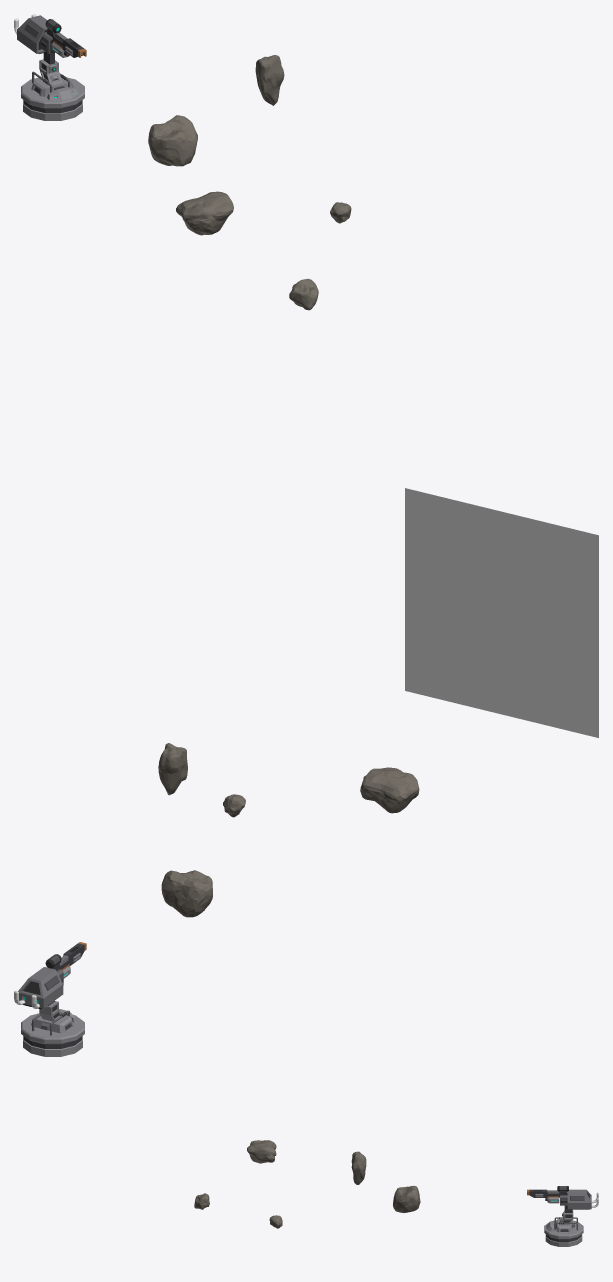
File: astroid-blaster.glb
3 views of the same model, one above another, from view 1: azimuth 30°, elevation 25°; view 2: azimuth 150°, elevation 25°; view 3: azimuth 270°, elevation 25° (orthographic). The views are drawn at different scales.
Visible parts, largest first — view 1: turret_base, astroid_2, turret_body, astroid_3, astroid_4, astroid_5; view 2: start_plane, turret_base, turret_body, astroid_3, astroid_2, astroid_4; view 3: turret_base, turret_body, astroid_2, astroid_3, astroid_4.
Part boxes in pixels (bbox=[...]): turret_base: bbox=[21, 52, 84, 120]; astroid_2: bbox=[148, 115, 197, 166]; turret_body: bbox=[17, 15, 86, 57]; astroid_3: bbox=[176, 191, 233, 235]; astroid_4: bbox=[255, 55, 284, 105]; astroid_5: bbox=[289, 278, 318, 310]; start_plane: bbox=[405, 488, 598, 737]; turret_base: bbox=[21, 1001, 84, 1056]; turret_body: bbox=[18, 942, 86, 1009]; astroid_3: bbox=[360, 767, 419, 813]; astroid_2: bbox=[161, 870, 212, 917]; astroid_4: bbox=[158, 743, 187, 795]; turret_base: bbox=[544, 1205, 583, 1246]; turret_body: bbox=[527, 1186, 591, 1209]; astroid_2: bbox=[393, 1185, 420, 1213]; astroid_3: bbox=[247, 1140, 276, 1163]; astroid_4: bbox=[351, 1151, 366, 1184].
Bounding box in the file's own units: 2.22 × 2.01 × 8.53.
6 materials, 6 textured.
